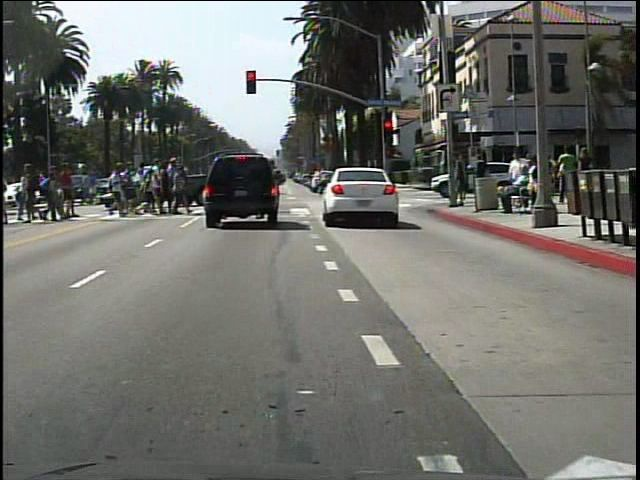person: (498, 161, 532, 215)
